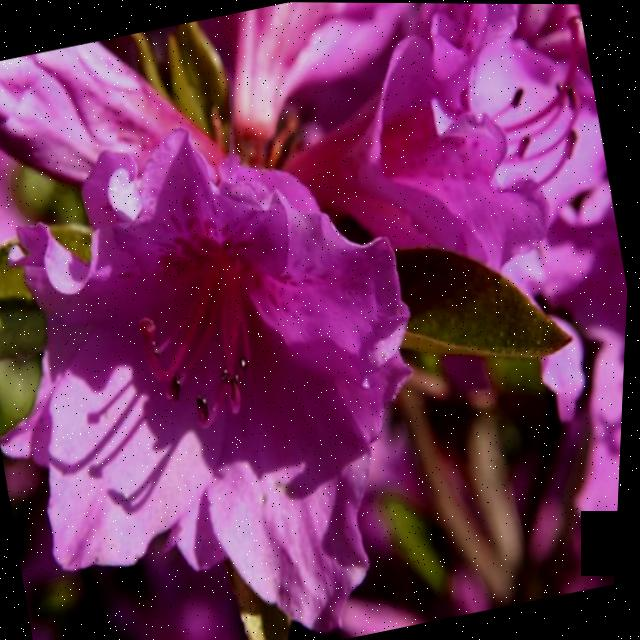azalea: (0, 93, 479, 640)
